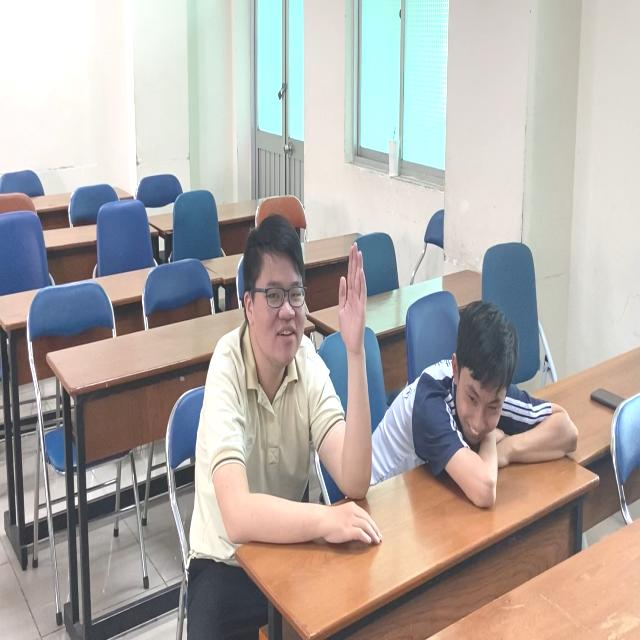raise_hand: (183, 219, 376, 584)
sleep: (374, 307, 586, 527)
